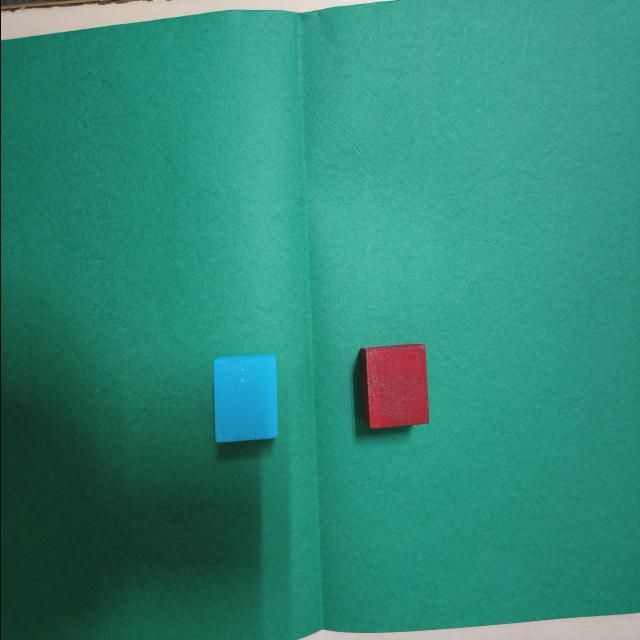blue_block: (212, 355, 277, 442)
red_block: (369, 348, 425, 426)
